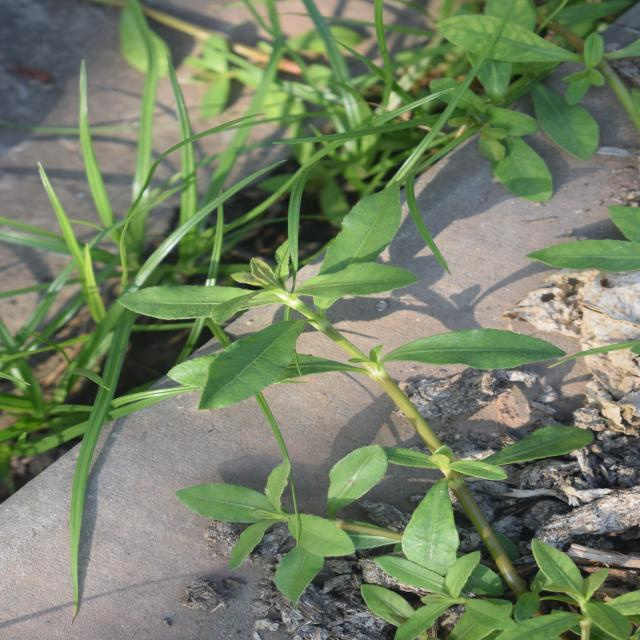Alligatorweed: (198, 86, 425, 488), (467, 195, 578, 466)
